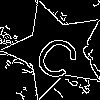C: (30, 25, 89, 84)
